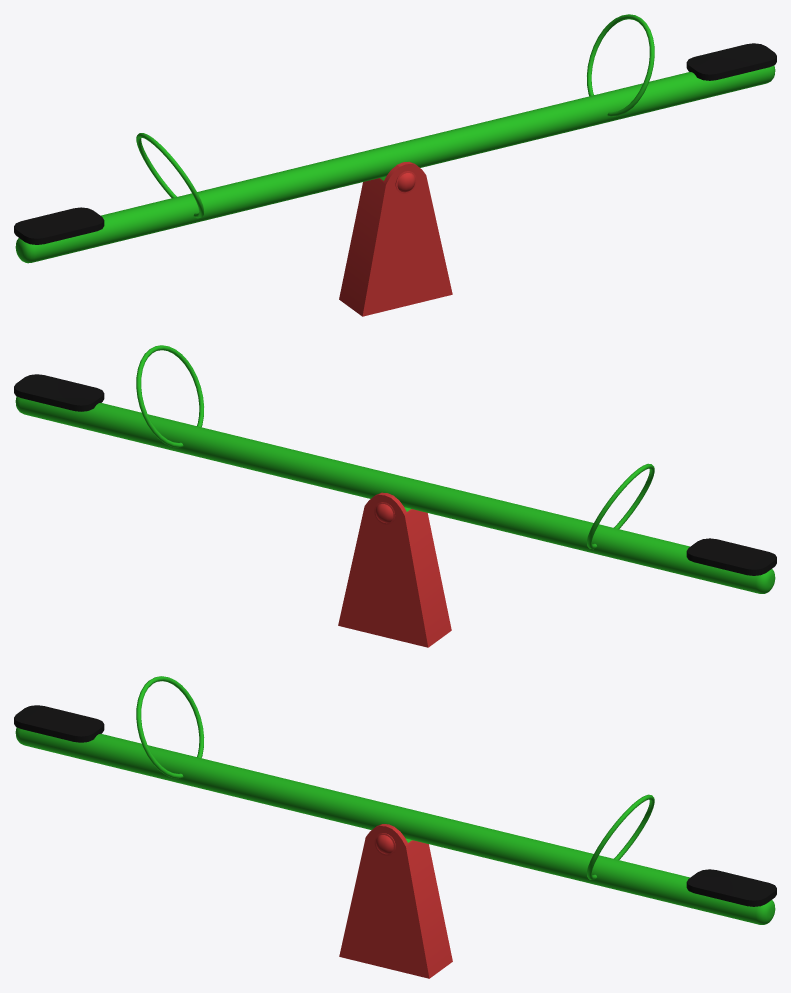
File: seesaw.obj
3 renders of one model, top to bottom at view 1: azimuth 30°, elevation 25°; view 2: azimuth 150°, elevation 25°; view 3: azimuth 330°, elevation 25°, orthographic.
Visible parts, largest first — view 1: up_Cylinder.024, bottom_Plane.011; view 2: up_Cylinder.024, bottom_Plane.011; view 3: up_Cylinder.024, bottom_Plane.011.
Boxes of the visible parts, x1,y1,x2,y2 form: up_Cylinder.024: (14,14,776,263); bottom_Plane.011: (339,161,452,316); up_Cylinder.024: (14,345,776,593); bottom_Plane.011: (338,492,451,647); up_Cylinder.024: (14,676,776,924); bottom_Plane.011: (339,824,452,978).
Size of the model in its own units: 3.91 by 1.09 by 0.4735.
